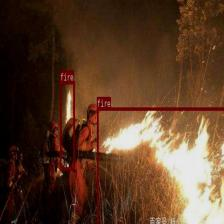fire: (96, 107, 224, 224), (60, 81, 74, 169)
